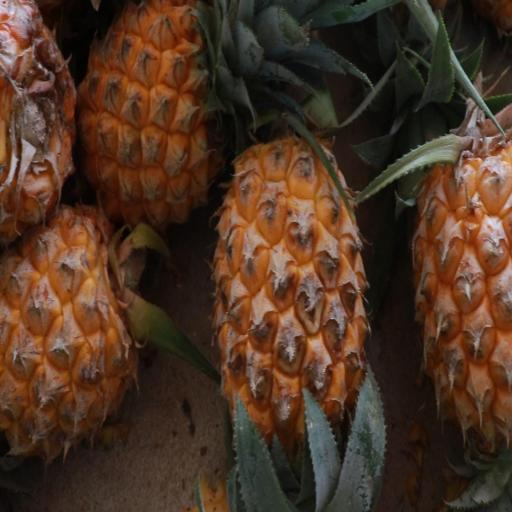Pineapple - v8 v1: (208, 122, 377, 512), (62, 0, 242, 241), (0, 194, 155, 468), (406, 96, 512, 458)
